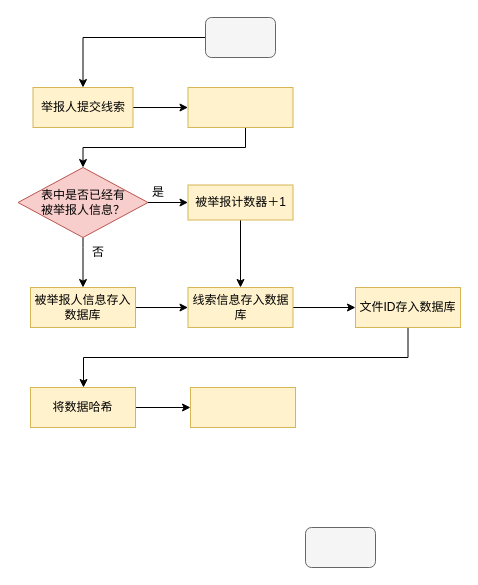
Some shapes in this 478 by 585 pixel diagram are drawn without their labels. The shapes that lost their labels are listed below. From the top down, each one's centre as x and y in pixels, then its label:
At (240,37): "开始".
At (240,107): "附件存入云存储".
At (243,407): "调用接口上链".
At (340,547): "结束".
